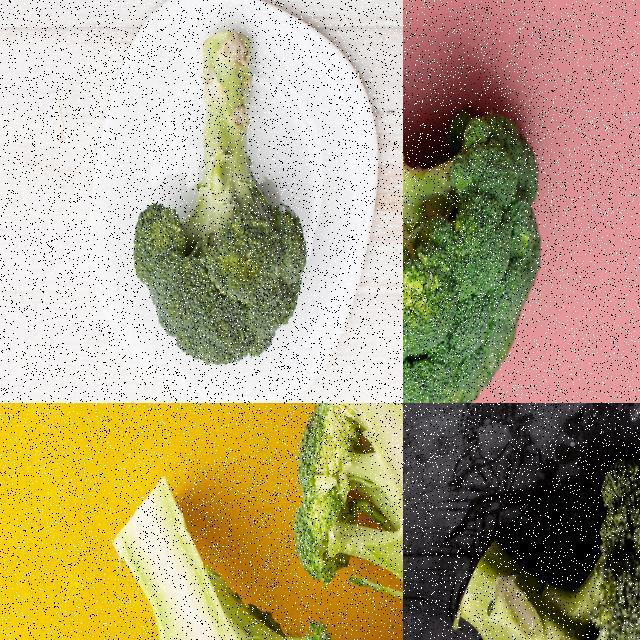broccoli: (131, 24, 310, 376), (403, 10, 552, 402), (108, 468, 376, 639), (443, 458, 639, 639), (289, 403, 402, 639)
